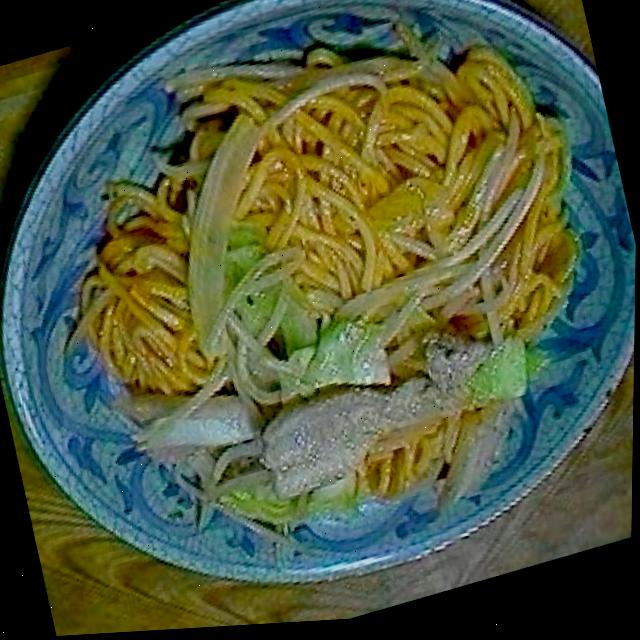面条主食: (23, 0, 637, 610)
